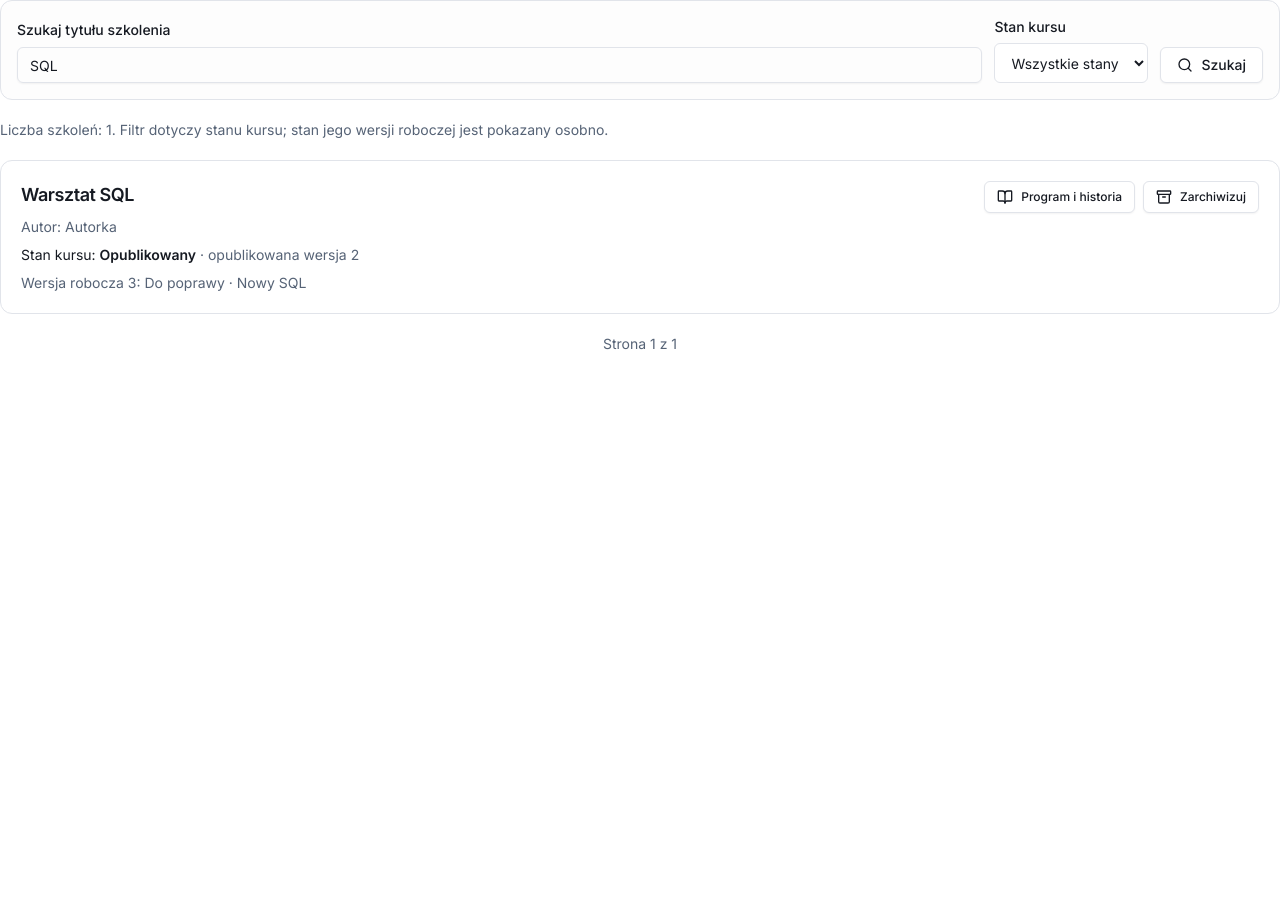
it: administrator course inventory › archives only after confirmation and preserves learning state
Click the button "Zarchiwizuj".
click(1201, 197)  # box [1143, 181, 1259, 213]
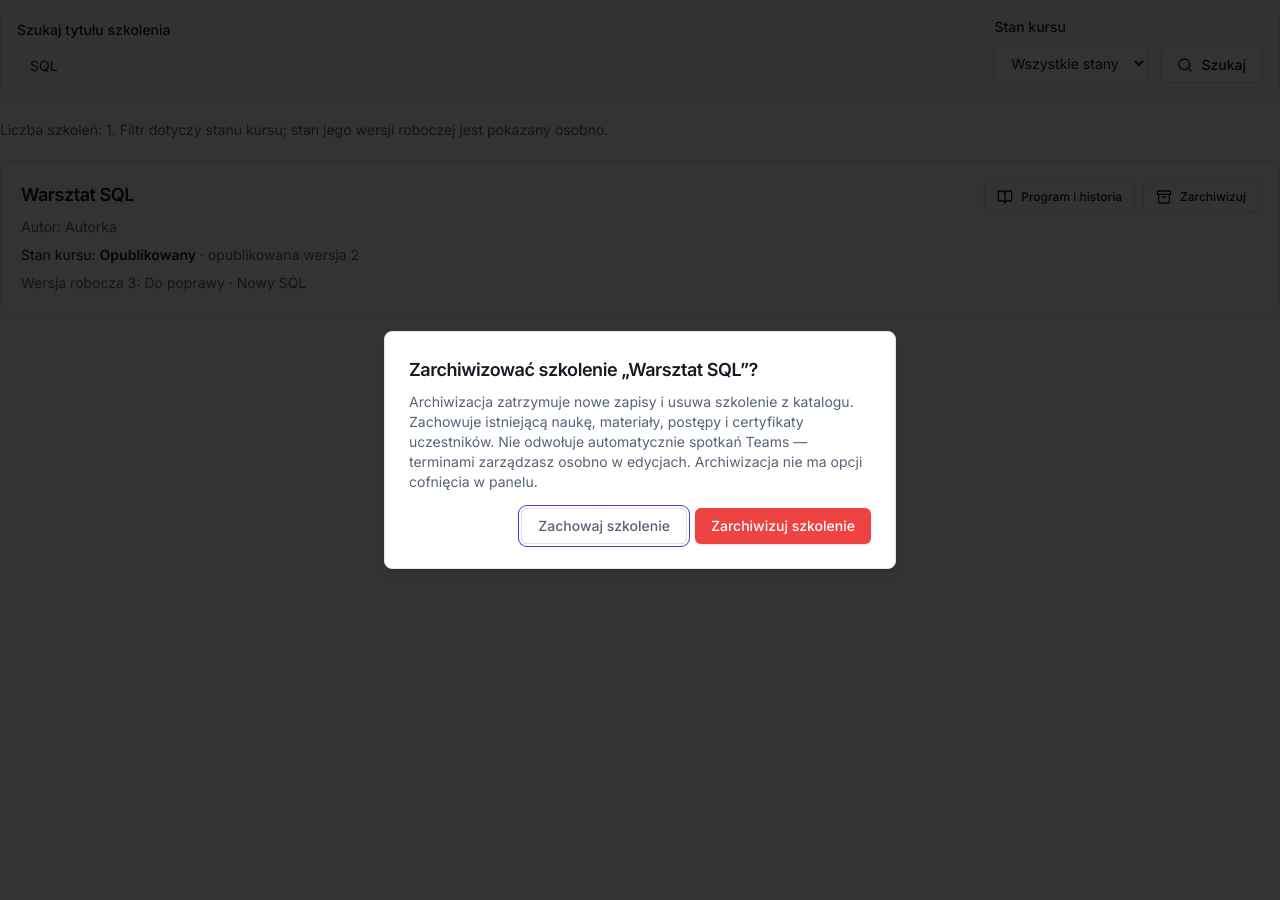
Click the button "Zarchiwizuj szkolenie".
click(783, 526)  # box [695, 508, 871, 544]
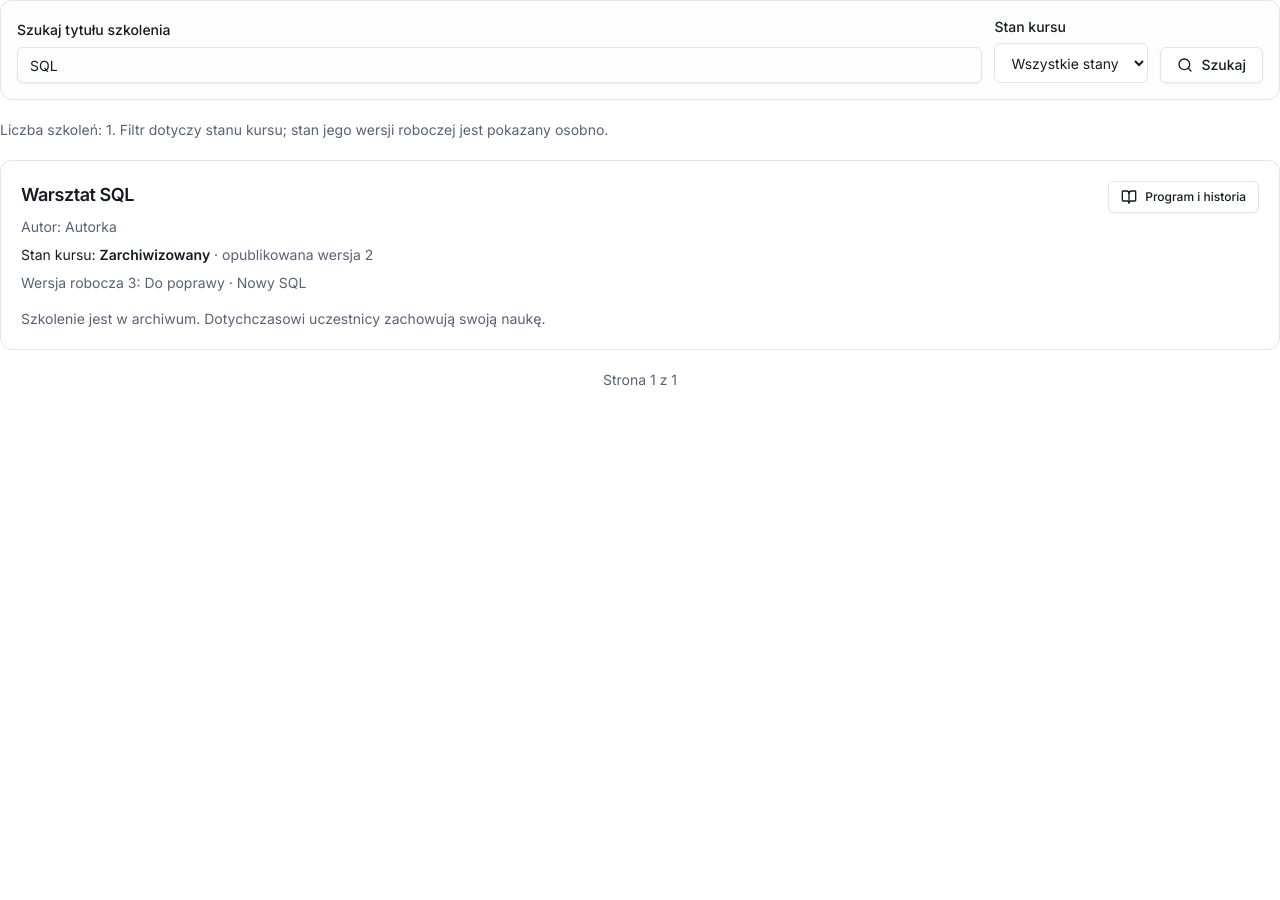
Expected: the message shows "Dotychczasowi uczestnicy zachowują swoją naukę", [21, 310, 545, 327]
Expected: the button "Zarchiwizuj" is gone
